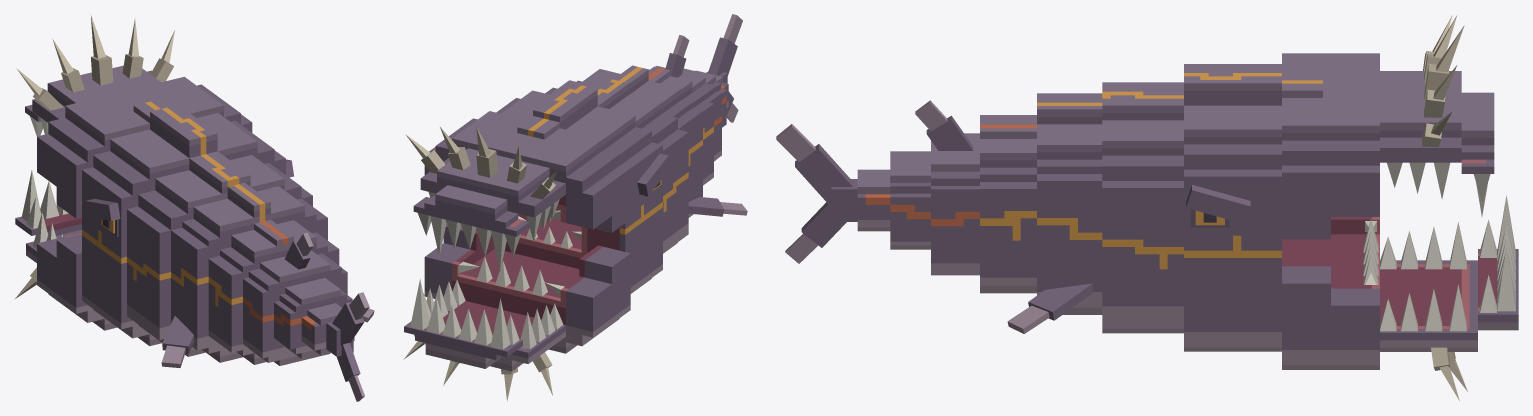
The model's file is TheDevourer.glb.
The picture shows the model from 3 angles, left to right: view 1: azimuth 30°, elevation 25°; view 2: azimuth 150°, elevation 25°; view 3: azimuth 270°, elevation 25°; orthographic projection. The views are drawn at different scales.
Visible parts, largest first — view 1: Head, S1, Jaw, S2, S3, S4, Tail, Head_Glow, S5, S1_Glow, S2_Glow; view 2: Head, Jaw, S1, S2, S3, Tail, Head_Glow, S4; view 3: Head, Jaw, S1, S2, S3, Tail, S4, Head_Glow, S5, S2_Glow, S1_Glow.
Part boxes in pixels (bbox=[...]): Head: bbox=[16, 14, 312, 356]; S1: bbox=[161, 182, 374, 367]; Jaw: bbox=[14, 170, 161, 346]; S2: bbox=[208, 220, 339, 364]; S3: bbox=[243, 232, 347, 365]; S4: bbox=[274, 278, 352, 358]; Tail: bbox=[326, 292, 369, 401]; Head_Glow: bbox=[82, 101, 239, 281]; S5: bbox=[301, 303, 354, 355]; S1_Glow: bbox=[171, 184, 265, 286]; S2_Glow: bbox=[208, 221, 288, 306]; Head: bbox=[405, 77, 688, 271]; Jaw: bbox=[403, 207, 662, 401]; S1: bbox=[576, 65, 747, 217]; S2: bbox=[648, 66, 713, 185]; S3: bbox=[648, 35, 721, 161]; Tail: bbox=[706, 14, 742, 122]; Head_Glow: bbox=[528, 79, 688, 234]; S4: bbox=[683, 68, 726, 127]; Head: bbox=[1102, 14, 1494, 333]; Jaw: bbox=[1184, 195, 1518, 400]; S1: bbox=[1007, 93, 1102, 333]; S2: bbox=[980, 115, 1036, 293]; S3: bbox=[915, 100, 979, 275]; Tail: bbox=[776, 124, 857, 263]; S4: bbox=[890, 151, 930, 249]; Head_Glow: bbox=[1102, 73, 1322, 269]; S5: bbox=[857, 169, 890, 231]; S2_Glow: bbox=[980, 124, 1036, 240]; S1_Glow: bbox=[1037, 102, 1102, 239].
Bounding box in the file's own units: 18.75 × 23.5 × 45.48.
